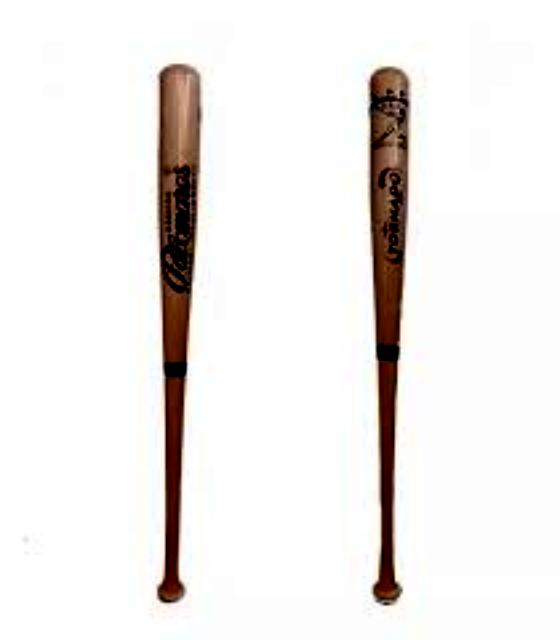baseball bat: (154, 62, 200, 602), (159, 66, 202, 604), (366, 64, 408, 602), (157, 50, 193, 600), (369, 67, 391, 601)
